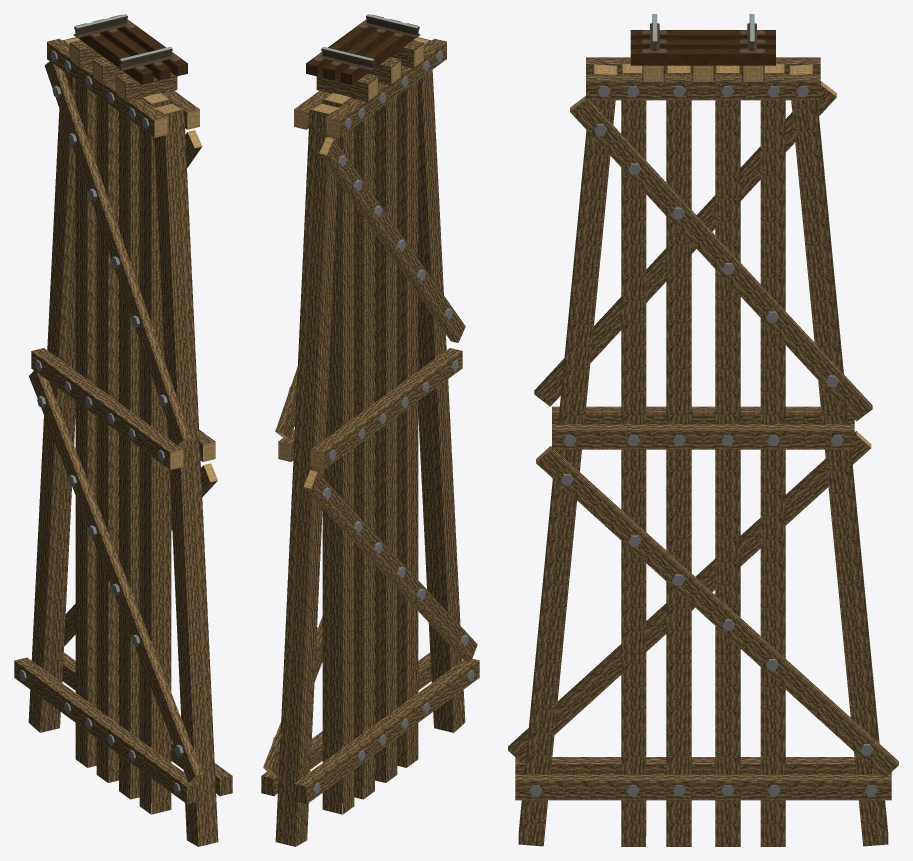
Rendered from spsf_trestle_part1.obj.
The picture shows the model from 3 angles, left to right: view 1: azimuth 30°, elevation 25°; view 2: azimuth 150°, elevation 25°; view 3: azimuth 270°, elevation 25°; orthographic projection. The views are drawn at different scales.
Parts seen in each view (by area): view 1: RAIL_BASE_Cube.011, RAIL_BASE.003_Cube.013, RAIL_BASE.006_Cube.007, RAIL_BASE.002_RAIL_BASE.001, RAILBASE_Cube, RAIL_BASE.001_Cylinder.001, RAIL_LEFT_Cube.015, RAIL_RIGHT_Cube.014; view 2: RAIL_BASE_Cube.011, RAIL_BASE.006_Cube.007, RAIL_BASE.003_Cube.013, RAIL_BASE.002_RAIL_BASE.001, RAILBASE_Cube, RAIL_BASE.001_Cylinder.001, RAIL_RIGHT_Cube.014, RAIL_LEFT_Cube.015; view 3: RAIL_BASE_Cube.011, RAIL_BASE.003_Cube.013, RAIL_BASE.006_Cube.007, RAIL_BASE.002_RAIL_BASE.001, RAIL_BASE.001_Cylinder.001, RAILBASE_Cube.
Part boxes in pixels (left/top/right/bottom): RAIL_BASE_Cube.011: left=28, top=37, right=218, bottom=846; RAIL_BASE.003_Cube.013: left=29, top=61, right=217, bottom=782; RAIL_BASE.006_Cube.007: left=14, top=38, right=232, bottom=804; RAIL_BASE.002_RAIL_BASE.001: left=75, top=14, right=187, bottom=84; RAILBASE_Cube: left=69, top=40, right=177, bottom=102; RAIL_BASE.001_Cylinder.001: left=19, top=50, right=183, bottom=794; RAIL_LEFT_Cube.015: left=118, top=46, right=172, bottom=70; RAIL_RIGHT_Cube.014: left=73, top=14, right=128, bottom=37; RAIL_BASE_Cube.011: left=275, top=37, right=465, bottom=846; RAIL_BASE.006_Cube.007: left=261, top=38, right=479, bottom=804; RAIL_BASE.003_Cube.013: left=263, top=137, right=477, bottom=776; RAIL_BASE.002_RAIL_BASE.001: left=306, top=14, right=418, bottom=84; RAILBASE_Cube: left=316, top=40, right=424, bottom=102; RAIL_BASE.001_Cylinder.001: left=272, top=50, right=474, bottom=794; RAIL_RIGHT_Cube.014: left=321, top=46, right=375, bottom=70; RAIL_LEFT_Cube.015: left=365, top=14, right=420, bottom=37; RAIL_BASE_Cube.011: left=518, top=63, right=888, bottom=846; RAIL_BASE.003_Cube.013: left=508, top=81, right=898, bottom=778; RAIL_BASE.006_Cube.007: left=515, top=57, right=891, bottom=800; RAIL_BASE.002_RAIL_BASE.001: left=630, top=30, right=775, bottom=65; RAIL_BASE.001_Cylinder.001: left=529, top=86, right=877, bottom=795; RAILBASE_Cube: left=642, top=65, right=764, bottom=82.
Bounding box in the file's own units: 1.11 × 13.96 × 6.07.
Materials: 2 (2 with a texture image).
